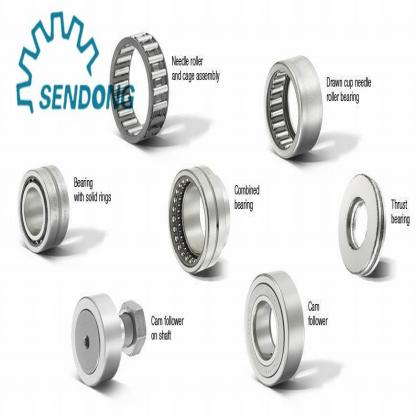FOD: (165, 158, 233, 281), (106, 26, 171, 151), (243, 266, 306, 392), (260, 52, 324, 162), (336, 166, 387, 287), (15, 162, 70, 257)
